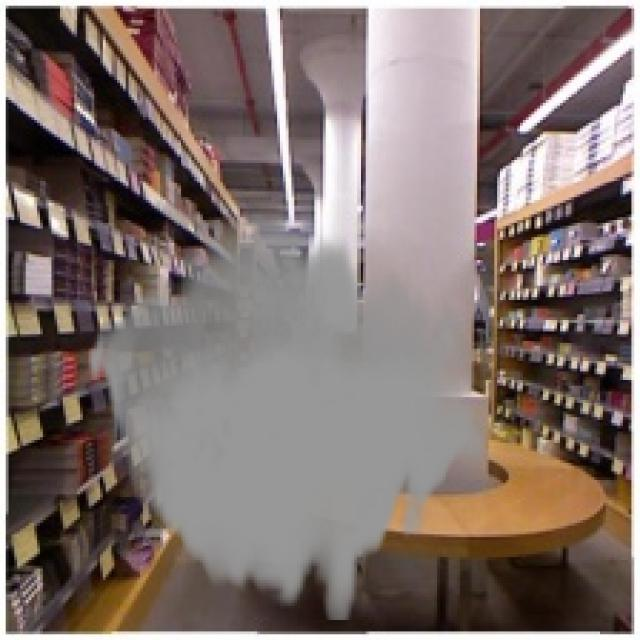smoke: (86, 214, 486, 620)
